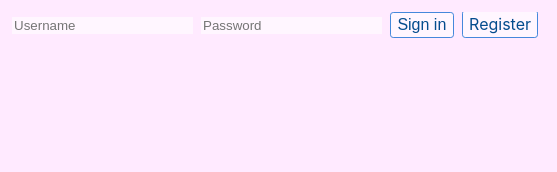
form › password is required
The image size is (557, 172).
Type "username" into the field with placeholder "Username" at (102, 25), box [12, 17, 193, 34]
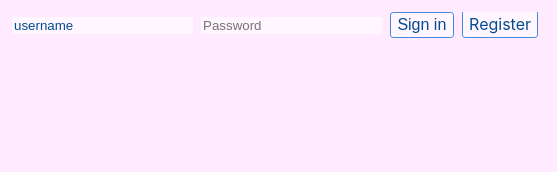
Type "password" into the password field with placeholder "Password" at (292, 25), box [201, 17, 382, 34]
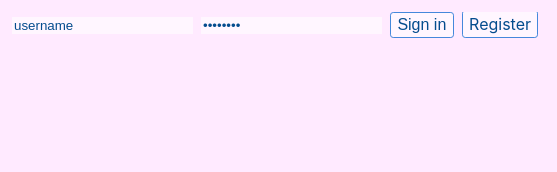
Clear the password field at (292, 25), box [201, 17, 382, 34]
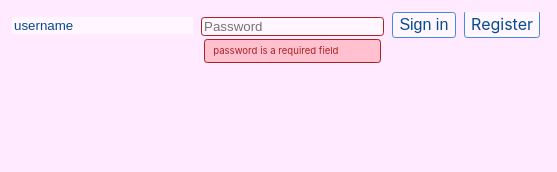
Check: the message "password is a required field" is shown, box [204, 39, 381, 63]
